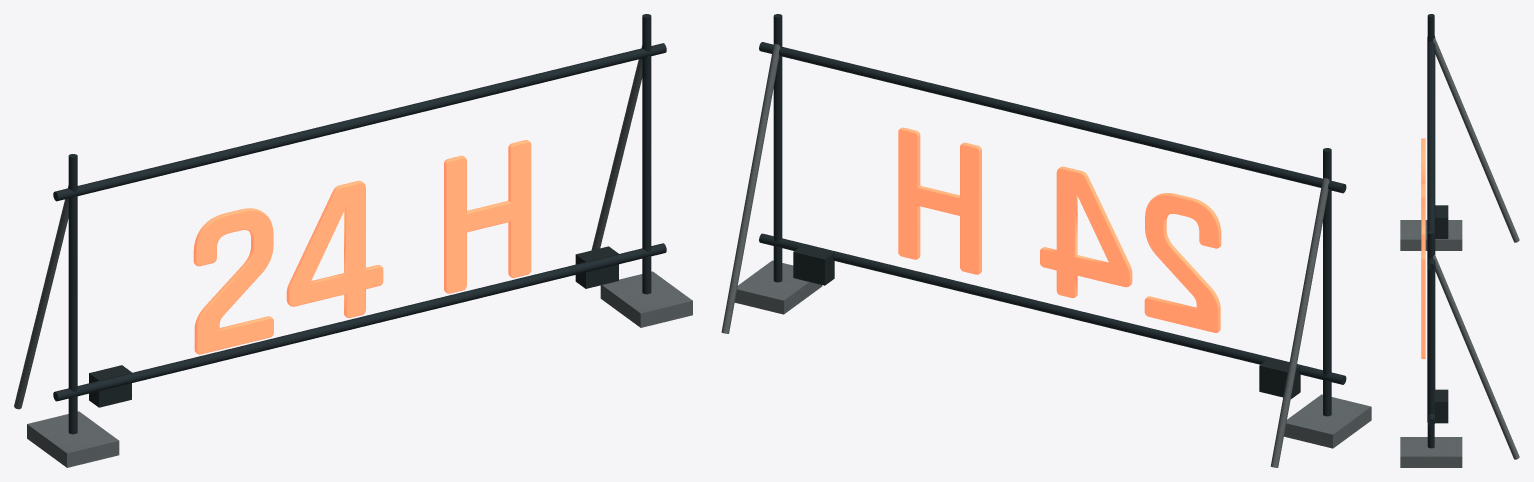
The model's file is NC_NeonRoofSign_LOD1.fbx.
3 renders of one model, left to right at view 1: azimuth 30°, elevation 25°; view 2: azimuth 150°, elevation 25°; view 3: azimuth 270°, elevation 25°, orthographic. The views are drawn at different scales.
Visible parts, largest first — view 1: NC_NeonRoofSign_LOD1; view 2: NC_NeonRoofSign_LOD1; view 3: NC_NeonRoofSign_LOD1.
Boxes of the visible parts, <box> form: NC_NeonRoofSign_LOD1: <box>14,14,692,467</box>; NC_NeonRoofSign_LOD1: <box>721,14,1371,467</box>; NC_NeonRoofSign_LOD1: <box>1400,14,1519,467</box>.
Bounding box in the file's own units: 720 × 321 × 154.
